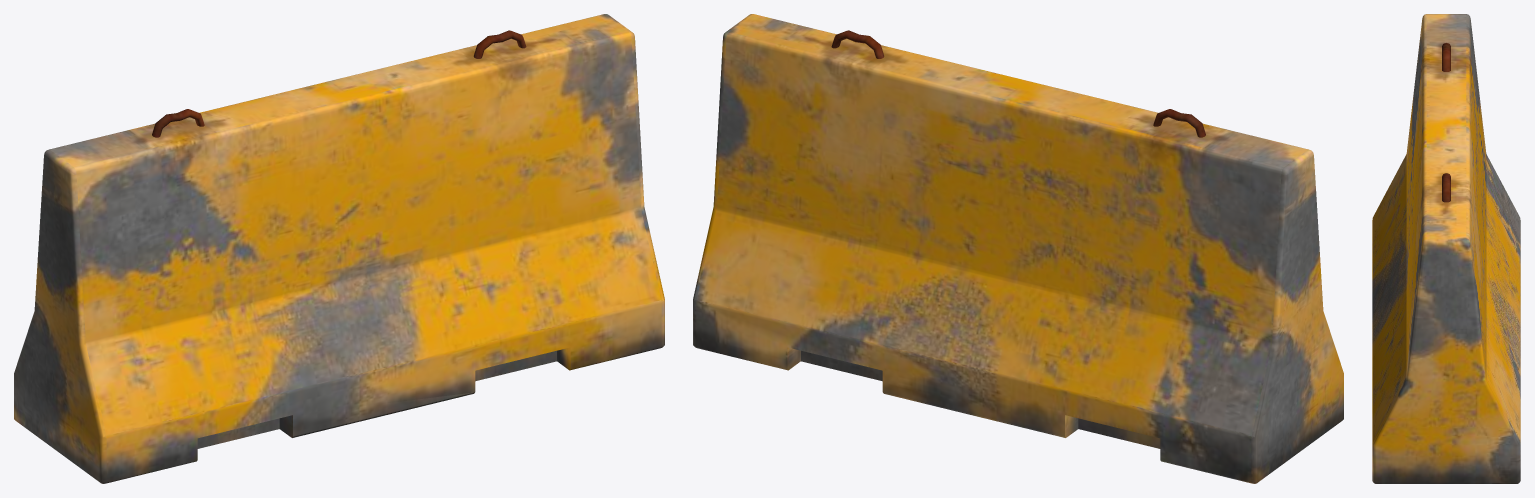
Rendered from o3_cantiere_05.glb.
3 renders of one model, left to right at view 1: azimuth 30°, elevation 25°; view 2: azimuth 150°, elevation 25°; view 3: azimuth 270°, elevation 25°, orthographic. The views are drawn at different scales.
Visible parts, largest first — view 1: sb_modello; view 2: sb_modello; view 3: sb_modello.
Part boxes in pixels (bbox=[...]): sb_modello: bbox=[14, 14, 664, 483]; sb_modello: bbox=[693, 14, 1343, 483]; sb_modello: bbox=[1372, 14, 1520, 483].
Bounding box in the file's own units: 1.77 × 0.93 × 0.4829.
1 material, 1 textured.
